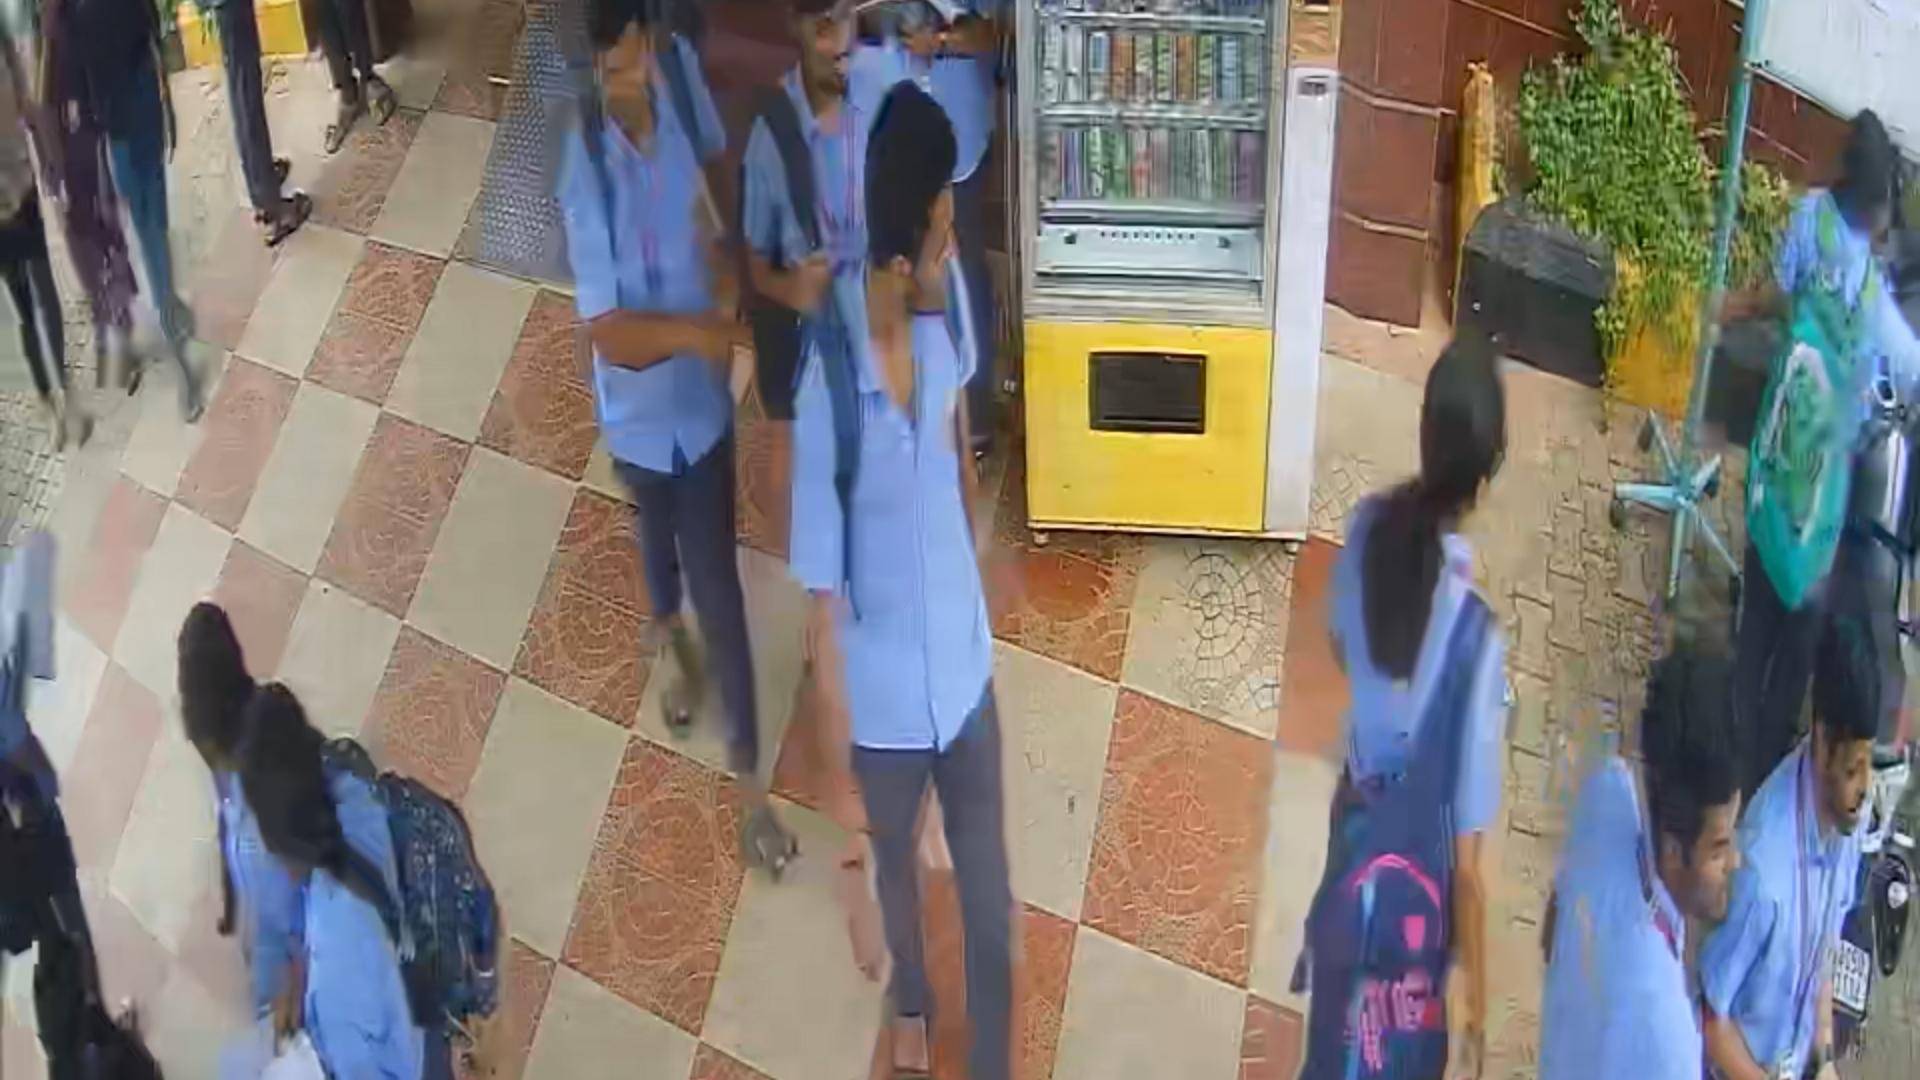intruder: (806, 86, 1069, 1080)
not intruder: (529, 1, 829, 905), (771, 1, 928, 430)
